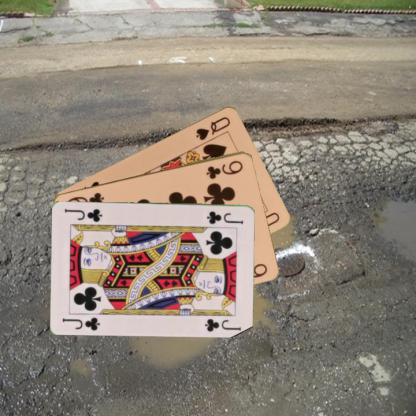9c: (204, 157, 244, 180)
Jc: (60, 315, 102, 332), (205, 209, 245, 226)
Qs: (193, 114, 232, 141)
